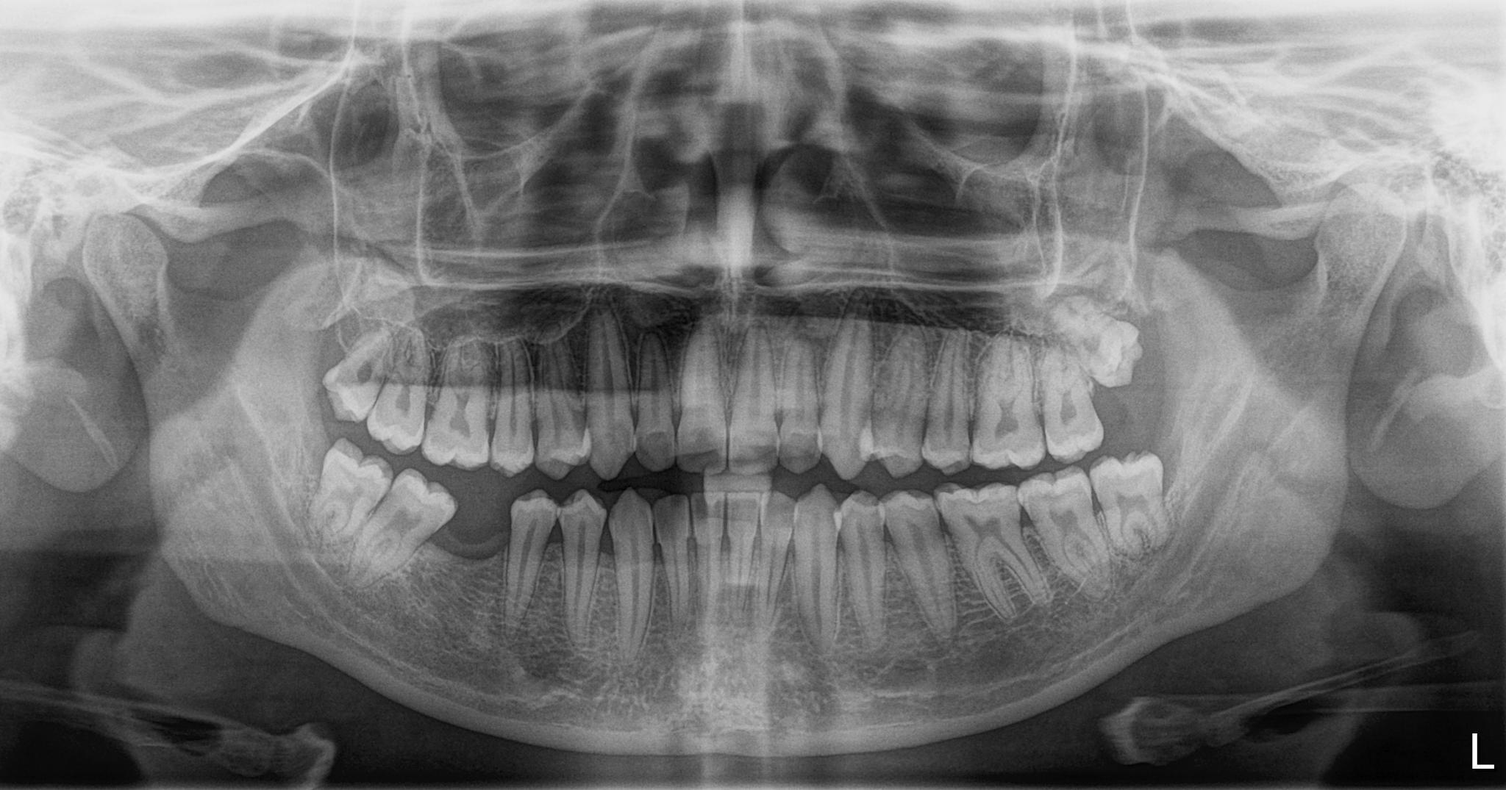Impacted Third Molar: (1077, 305, 1189, 394)
Missing Tooth: (445, 514, 508, 621)
